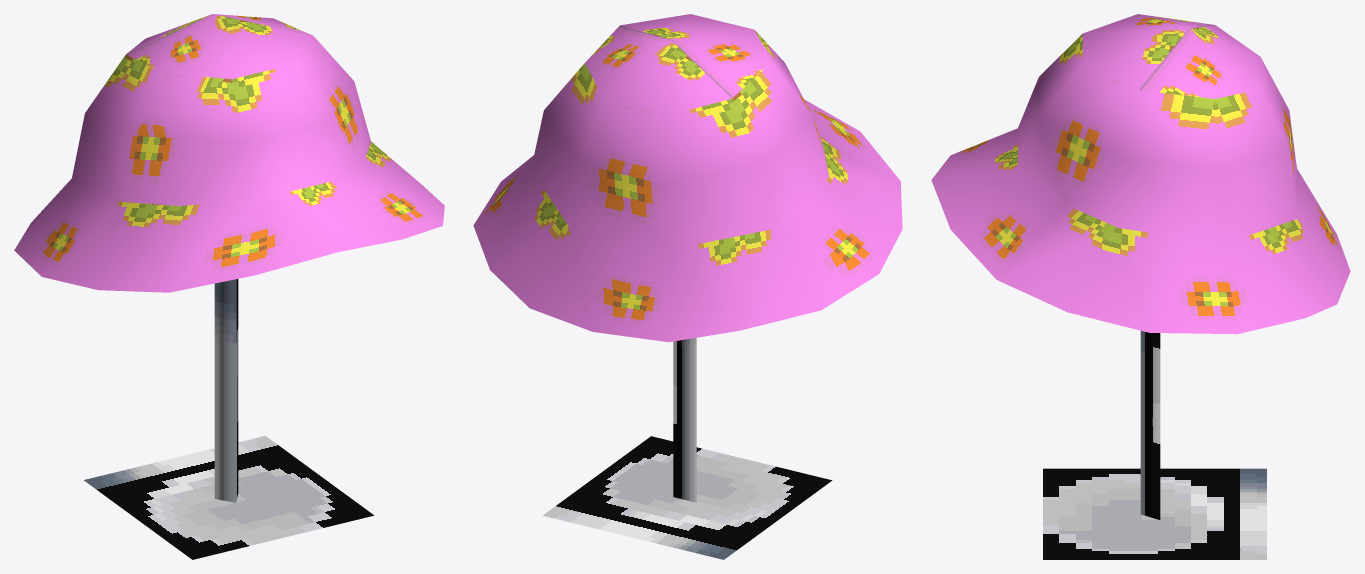
The picture shows the model from 3 angles, left to right: view 1: azimuth 30°, elevation 25°; view 2: azimuth 150°, elevation 25°; view 3: azimuth 270°, elevation 25°; orthographic projection. The views are drawn at different scales.
Parts seen in each view (by area): view 1: 2897head060_c; view 2: 2897head060_c; view 3: 2897head060_c.
Boxes of the visible parts, left/top/right/bottom form: 2897head060_c: left=14, top=14, right=444, bottom=559; 2897head060_c: left=473, top=14, right=902, bottom=559; 2897head060_c: left=931, top=14, right=1350, bottom=559.
Bounding box in the file's own units: 0.9644 × 1.15 × 0.8972.
2 materials, 2 textured.
